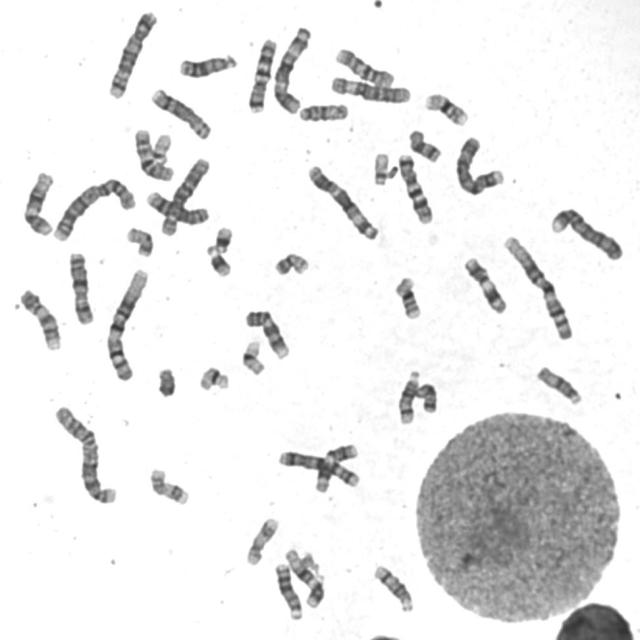A1: (499, 231, 576, 342), (102, 263, 150, 383)
A2: (50, 401, 119, 506), (48, 173, 138, 243)
A3: (304, 160, 381, 242), (268, 21, 314, 114)
B4: (546, 202, 626, 263), (451, 131, 506, 197)
B5: (104, 5, 159, 100), (274, 445, 361, 489)
C10: (332, 43, 396, 88), (130, 124, 176, 182)
C11: (460, 252, 509, 316), (313, 443, 359, 494)
C12: (280, 544, 326, 608), (19, 167, 57, 237)
C6: (157, 154, 211, 238), (327, 71, 412, 105)
C7: (394, 150, 434, 226), (244, 33, 278, 114)
C8: (147, 84, 213, 141), (142, 186, 212, 226)
C9: (15, 285, 63, 352), (240, 305, 291, 360)
D13: (270, 559, 304, 621), (174, 49, 238, 80)
D14: (369, 560, 415, 614), (393, 364, 422, 426)
D15: (532, 361, 584, 407), (295, 99, 350, 123)
E16: (421, 88, 470, 127), (390, 272, 424, 321)
E17: (242, 512, 280, 568), (145, 463, 191, 507)
E18: (404, 125, 442, 163), (413, 378, 439, 415)
F19: (237, 335, 267, 377), (194, 362, 231, 392)
F20: (122, 222, 155, 259), (270, 248, 311, 277)
G21: (203, 245, 233, 278), (209, 222, 234, 254)
G22: (148, 129, 172, 166), (369, 148, 391, 187)
X: (64, 248, 96, 326)
Y: (153, 362, 177, 398)
